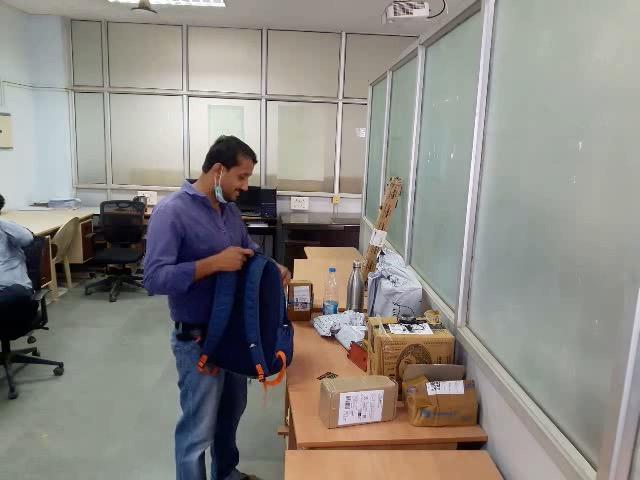shoplifting: (128, 218, 384, 414)
